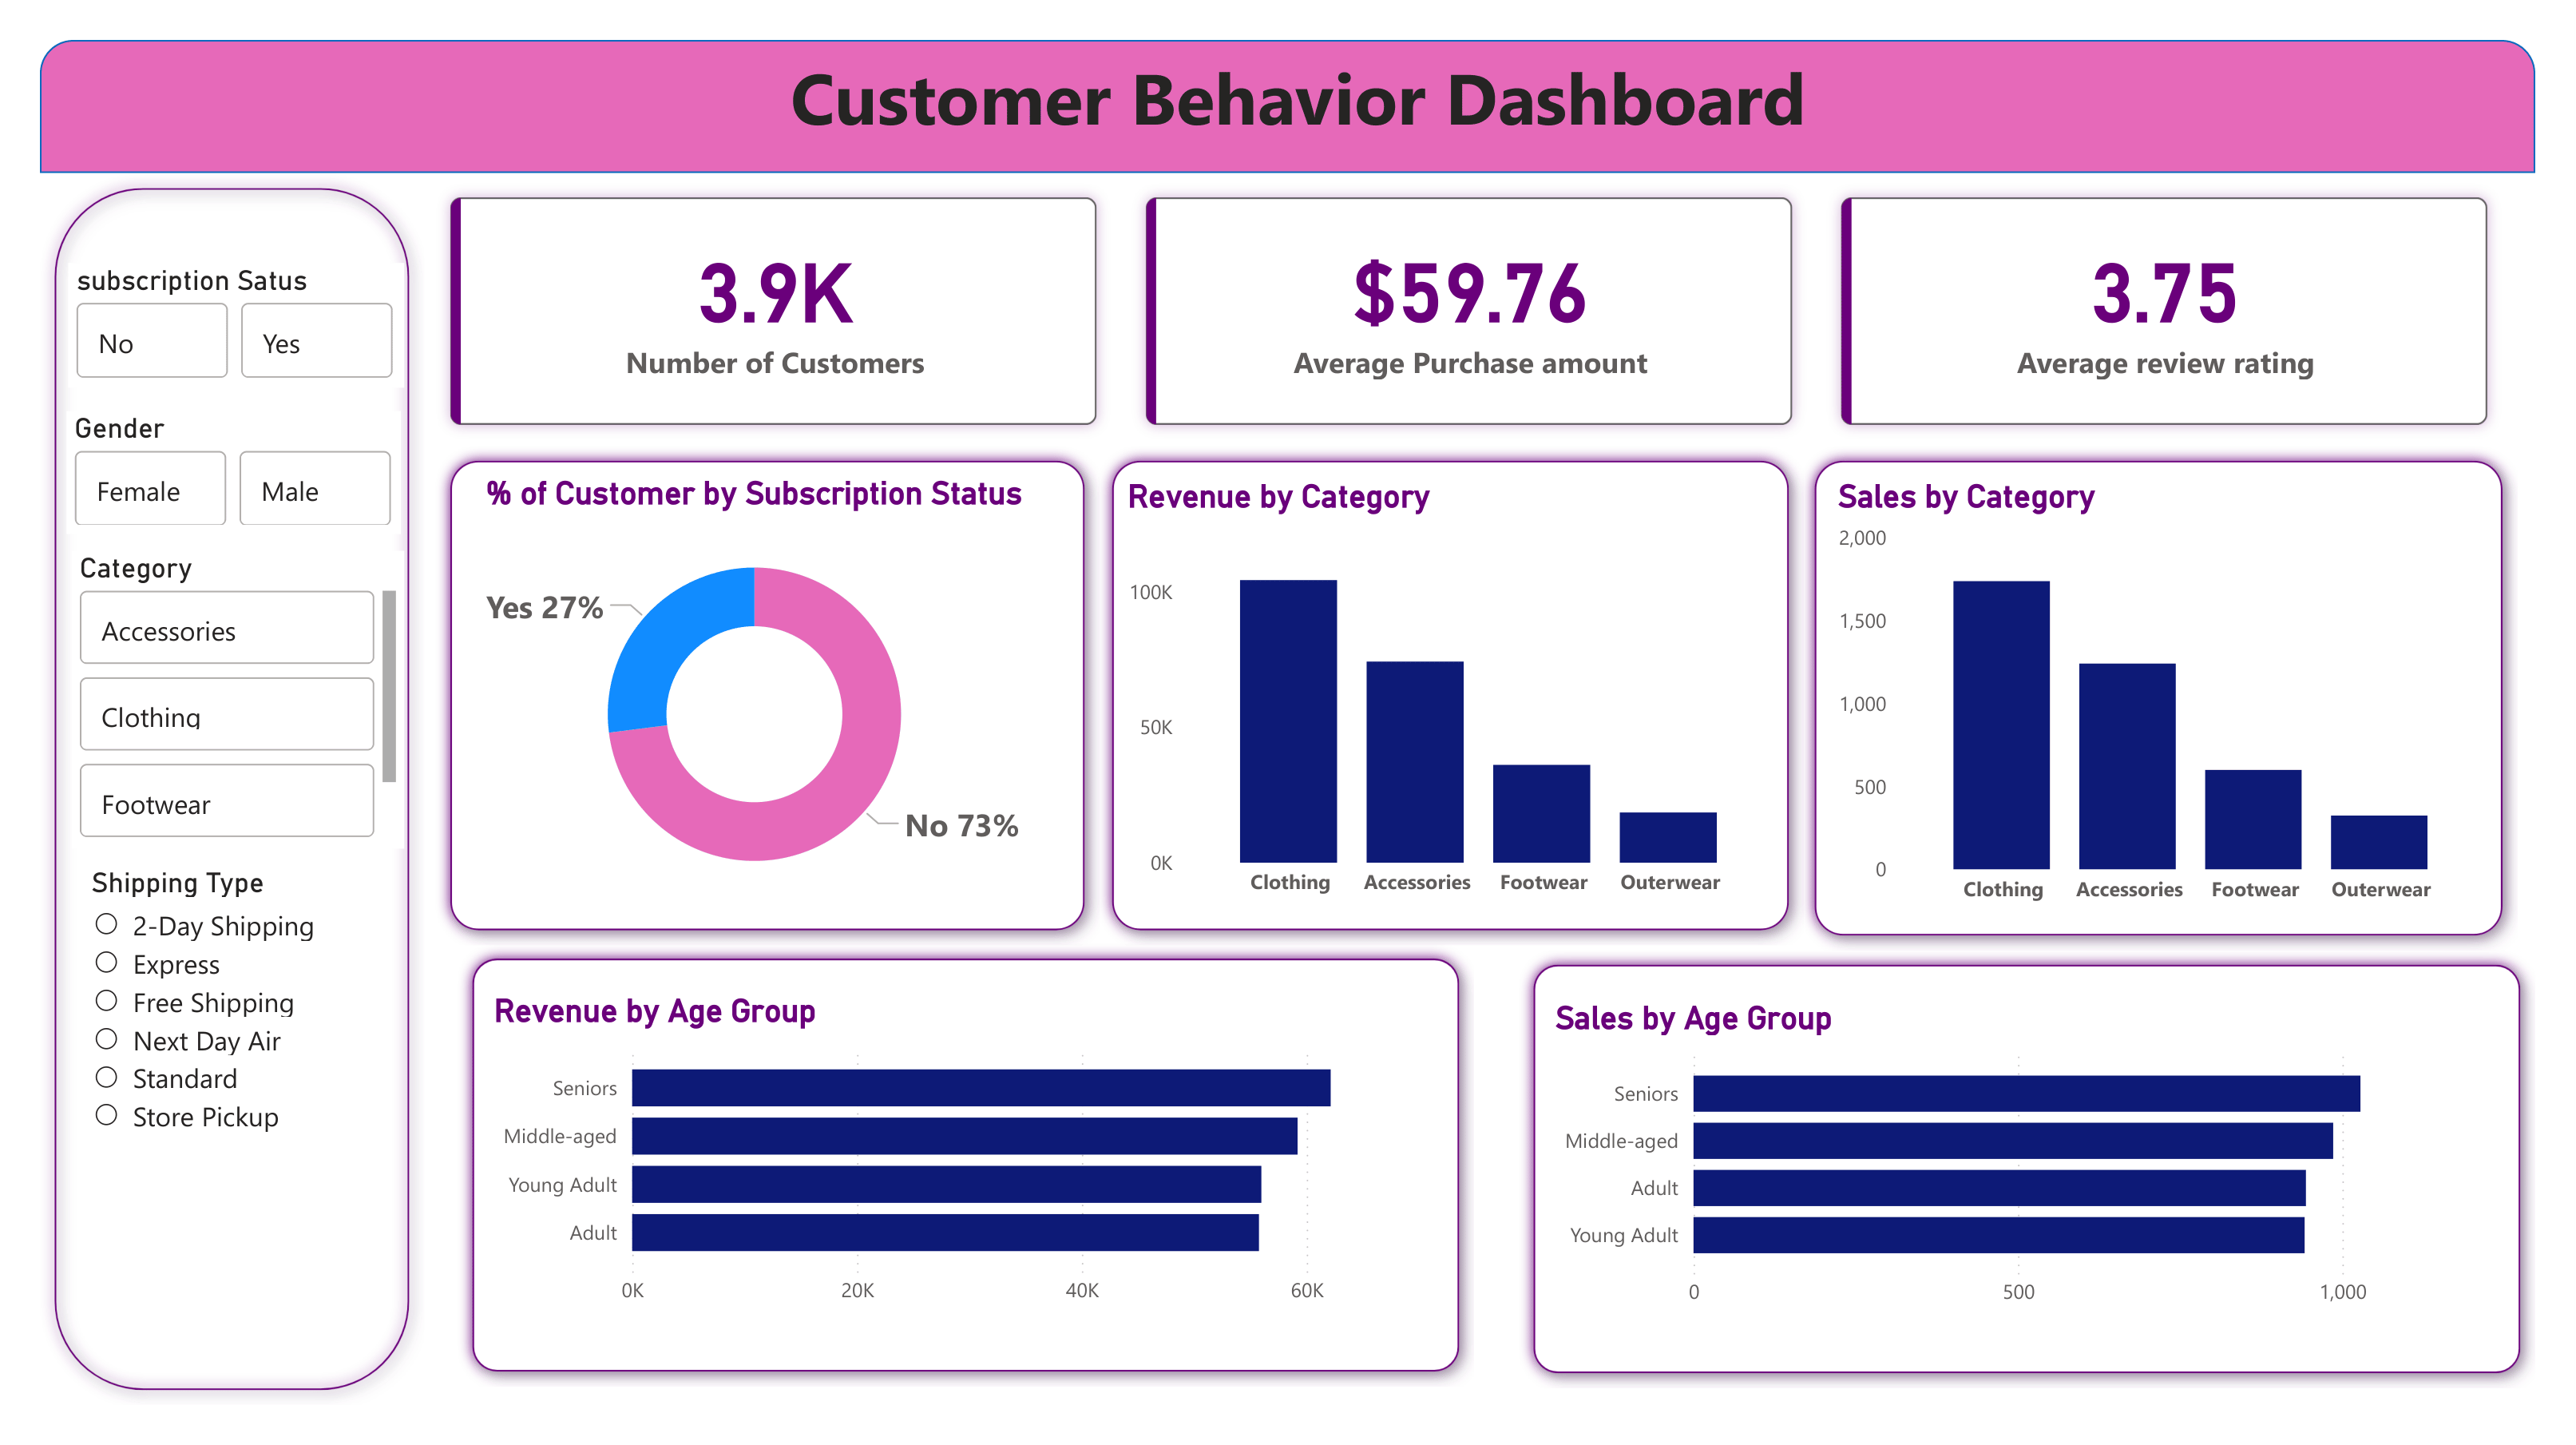

This screenshot's page, from the dashboard's own definition file:
{"tool":"powerbi","page":{"name":"Page 1","canvas":[1500,820],"ordinal":0},"visuals":[{"type":"cardVisual","fields":{"Data":["customer.Number of Customers","customer.Average Purchase amount","customer.Average review rating"]},"box":[218.6,67.1,1281.4,192.9],"z":0},{"type":"shape","box":[636.4,244.3,424.3,299.7],"z":0,"group":"g2"},{"type":"shape","box":[0,0,1500,80],"z":1000},{"type":"textbox","box":[12.9,0,1487.1,67.1],"z":2000},{"type":"shape","box":[0,80,231.4,740],"z":3000},{"type":"group","id":"g1","title":"Group 1","box":[234.3,244.5,402.7,299.9],"z":3000,"group":"g4"},{"type":"shape","box":[238.1,244.5,398.9,299.9],"z":3000,"group":"g1"},{"type":"shape","box":[251.4,542.9,611.4,265.7],"z":3000,"group":"g5"},{"type":"shape","box":[888.6,547.1,611.4,262.9],"z":3000,"group":"g6"},{"type":"advancedSlicerVisual","title":"subscription Satus","fields":{"Values":["customer.subscription_status"]},"box":[17.1,134.3,201.4,74.3],"z":4000},{"type":"group","id":"g2","title":"Group 2","box":[636.4,244.3,424.3,299.7],"z":4000,"group":"g4"},{"type":"donutChart","title":"%  of Customer by Subscription Status","fields":{"Category":["customer.subscription_status"],"Y":["CountNonNull(customer.customer_id)"]},"box":[234.3,261.5,391.5,265.8],"z":4000,"group":"g1"},{"type":"advancedSlicerVisual","title":"Gender","fields":{"Values":["customer.gender"]},"box":[15.7,222.9,201.4,74.3],"z":5000},{"type":"group","id":"g3","title":"Group 3","box":[1058.5,244.4,431.5,302.8],"z":5000,"group":"g4"},{"type":"clusteredColumnChart","title":"Revenue by Category","fields":{"Y":["Sum(customer.purchase_amount)"],"Category":["customer.category"]},"box":[649.3,263,397.2,261.5],"z":6000,"group":"g2"},{"type":"advancedSlicerVisual","fields":{"Values":["customer.category"]},"box":[18.6,307.1,200,178.6],"z":6000},{"type":"group","id":"g4","title":"Group 4","box":[234.3,244.3,1255.7,302.9],"z":7000},{"type":"shape","box":[1058.5,244.4,431.5,302.8],"z":7000,"group":"g3"},{"type":"clusteredColumnChart","title":"Sales by Category","fields":{"Category":["customer.category"],"Y":["CountNonNull(customer.customer_id)"]},"box":[1077,263,397,265],"z":8000,"group":"g3"},{"type":"listSlicer","fields":{"Values":["customer.shipping_type"]},"box":[25.7,495.7,181.4,220],"z":8000},{"type":"group","id":"g5","title":"Group 5","box":[251.4,542.9,611.4,265.7],"z":9000},{"type":"group","id":"g6","title":"Group 5","box":[888.6,547.1,611.4,262.9],"z":10000},{"type":"clusteredBarChart","title":"Revenue by Age Group","fields":{"Y":["Sum(customer.purchase_amount)"],"Category":["customer.age_group"]},"box":[268.5,572.2,575.7,196.4],"z":10500,"group":"g5"},{"type":"clusteredBarChart","title":"Sales by Age Group","fields":{"Category":["customer.age_group"],"Y":["CountNonNull(customer.customer_id)"]},"box":[905.7,576.1,575.7,194.3],"z":10500,"group":"g6"}]}

Visuals, with their boxes in screenshot pixels (x1, y1, x2, y2):
cardVisual - customer.Number of Customers x customer.Average Purchase amount: box=[424, 163, 2518, 478]
shape: box=[1107, 453, 1800, 943]
shape: box=[67, 54, 2518, 185]
textbox: box=[88, 54, 2518, 163]
shape: box=[67, 185, 445, 1394]
"Group 1" group: box=[450, 453, 1108, 943]
shape: box=[456, 453, 1108, 943]
shape: box=[478, 941, 1476, 1375]
shape: box=[1519, 947, 2518, 1377]
"subscription Satus" advancedSlicerVisual: box=[95, 273, 424, 395]
"Group 2" group: box=[1107, 453, 1800, 943]
"%  of Customer by Subscription Status" donutChart: box=[450, 481, 1089, 915]
"Gender" advancedSlicerVisual: box=[93, 418, 422, 539]
"Group 3" group: box=[1796, 453, 2501, 948]
"Revenue by Category" clusteredColumnChart: box=[1127, 483, 1777, 911]
advancedSlicerVisual - customer.category: box=[97, 555, 424, 848]
"Group 4" group: box=[450, 453, 2501, 948]
shape: box=[1796, 453, 2501, 948]
"Sales by Category" clusteredColumnChart: box=[1826, 483, 2475, 916]
listSlicer - customer.shipping_type: box=[109, 863, 406, 1223]
"Group 5" group: box=[478, 941, 1476, 1375]
"Group 5" group: box=[1519, 947, 2518, 1377]
"Revenue by Age Group" clusteredBarChart: box=[505, 989, 1446, 1310]
"Sales by Age Group" clusteredBarChart: box=[1547, 995, 2487, 1312]
